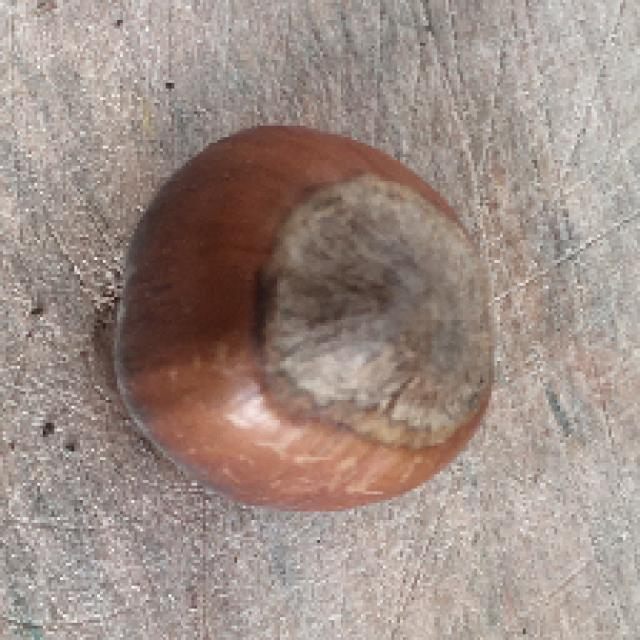damagedHazelnut: (96, 107, 503, 510)
